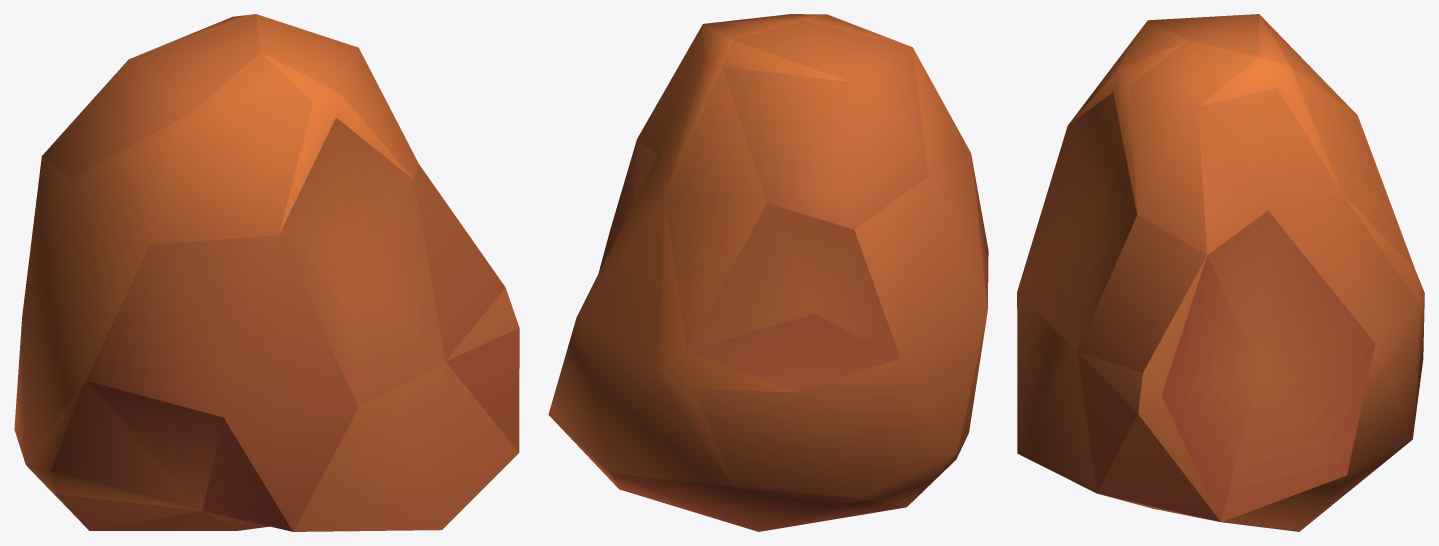
File: copper_nugget_large.glb
The picture shows the model from 3 angles, left to right: view 1: azimuth 30°, elevation 25°; view 2: azimuth 150°, elevation 25°; view 3: azimuth 270°, elevation 25°; orthographic projection. The views are drawn at different scales.
Visible parts, largest first — view 1: Copper_Nugget_Large; view 2: Copper_Nugget_Large; view 3: Copper_Nugget_Large.
Part boxes in pixels (x1=…): Copper_Nugget_Large: x1=14, y1=14, x2=519, y2=531; Copper_Nugget_Large: x1=548, y1=14, x2=988, y2=531; Copper_Nugget_Large: x1=1017, y1=14, x2=1424, y2=531.
Size of the model in its own units: 0.4271 by 0.4656 by 0.3947.
Materials: 1 (1 with a texture image).
